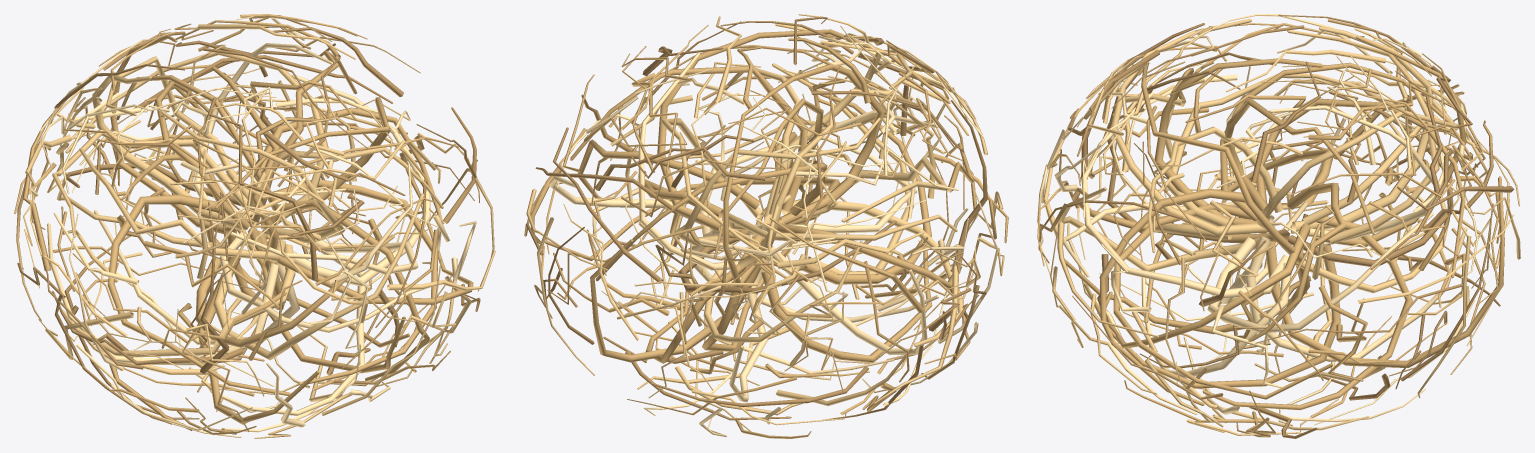
The model's file is debris_tumbleweed.glb.
The picture shows the model from 3 angles, left to right: view 1: azimuth 30°, elevation 25°; view 2: azimuth 150°, elevation 25°; view 3: azimuth 270°, elevation 25°; orthographic projection.
Parts seen in each view (by area): view 1: debris_tumbleweed; view 2: debris_tumbleweed; view 3: debris_tumbleweed.
Boxes of the visible parts, x1=… form: debris_tumbleweed: x1=14, y1=14, x2=495, y2=438; debris_tumbleweed: x1=524, y1=14, x2=1008, y2=438; debris_tumbleweed: x1=1037, y1=14, x2=1520, y2=438.
Size of the model in its own units: 1.02 by 0.8667 by 1.02.
Materials: 1 (1 with a texture image).
